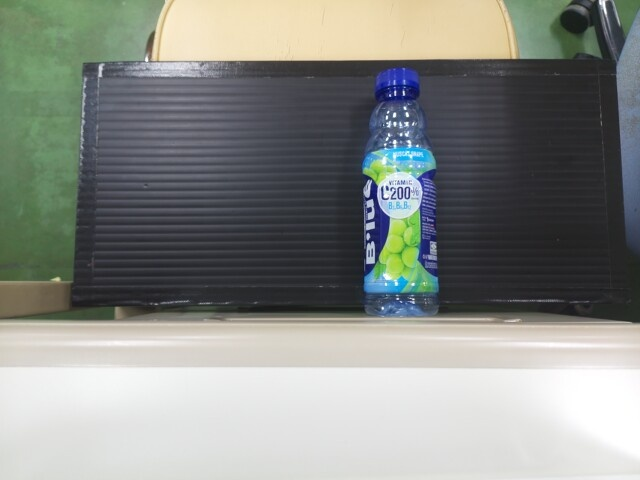plastic_bottle: (365, 63, 436, 311)
